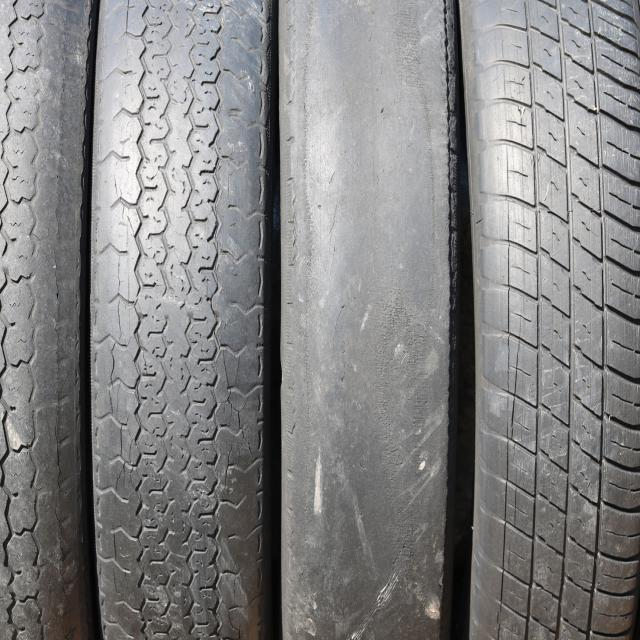Flat spots: (272, 9, 448, 628)
Non-defective: (490, 2, 640, 640)
